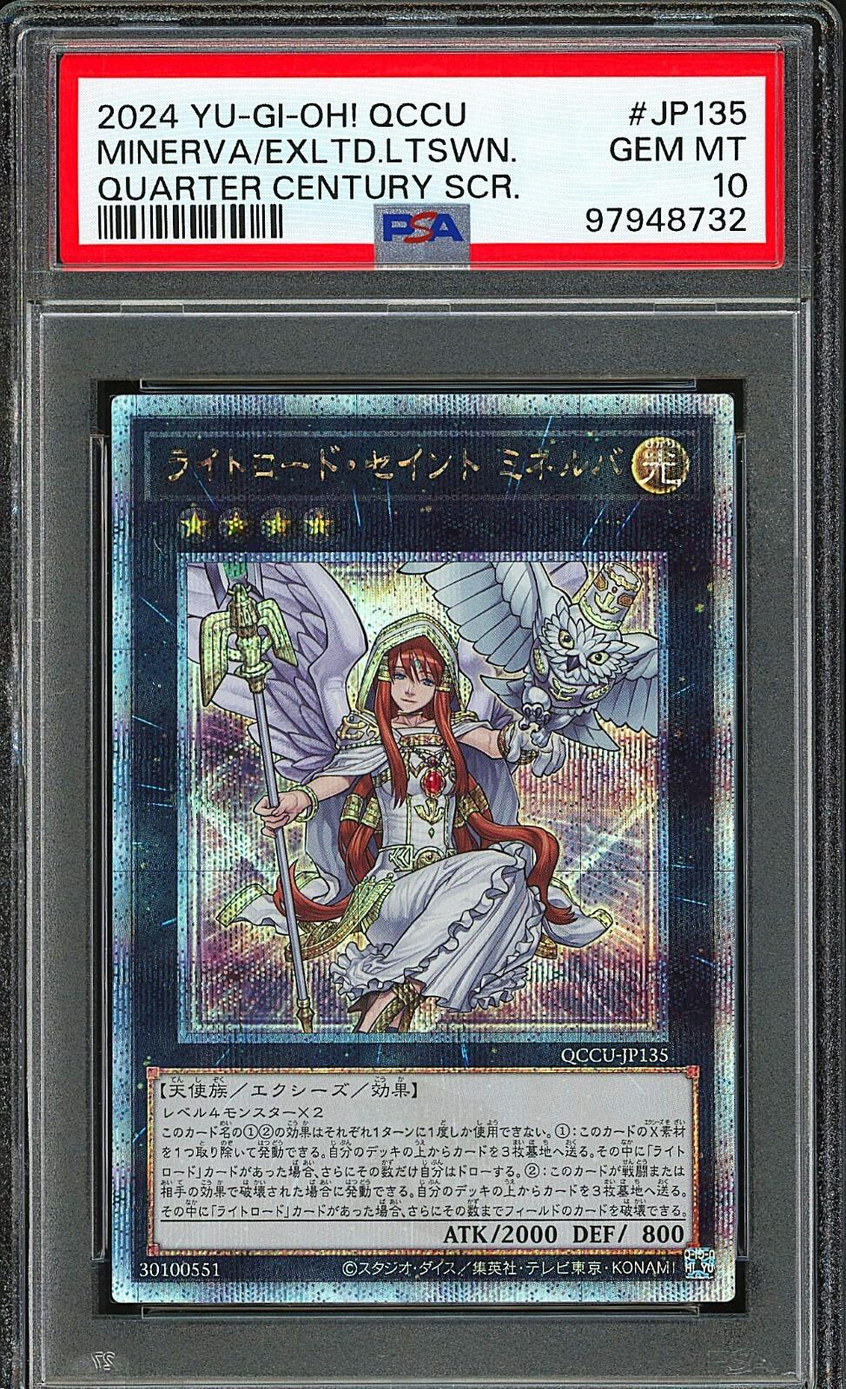card-2UtV: (111, 393, 736, 1303)
